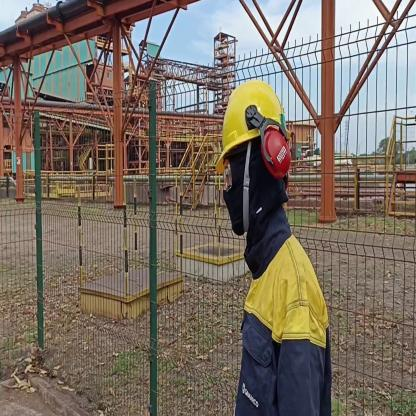Balaclava: (222, 146, 287, 244)
C_eletrica: (224, 246, 338, 416)
Capacete: (218, 75, 290, 140)
